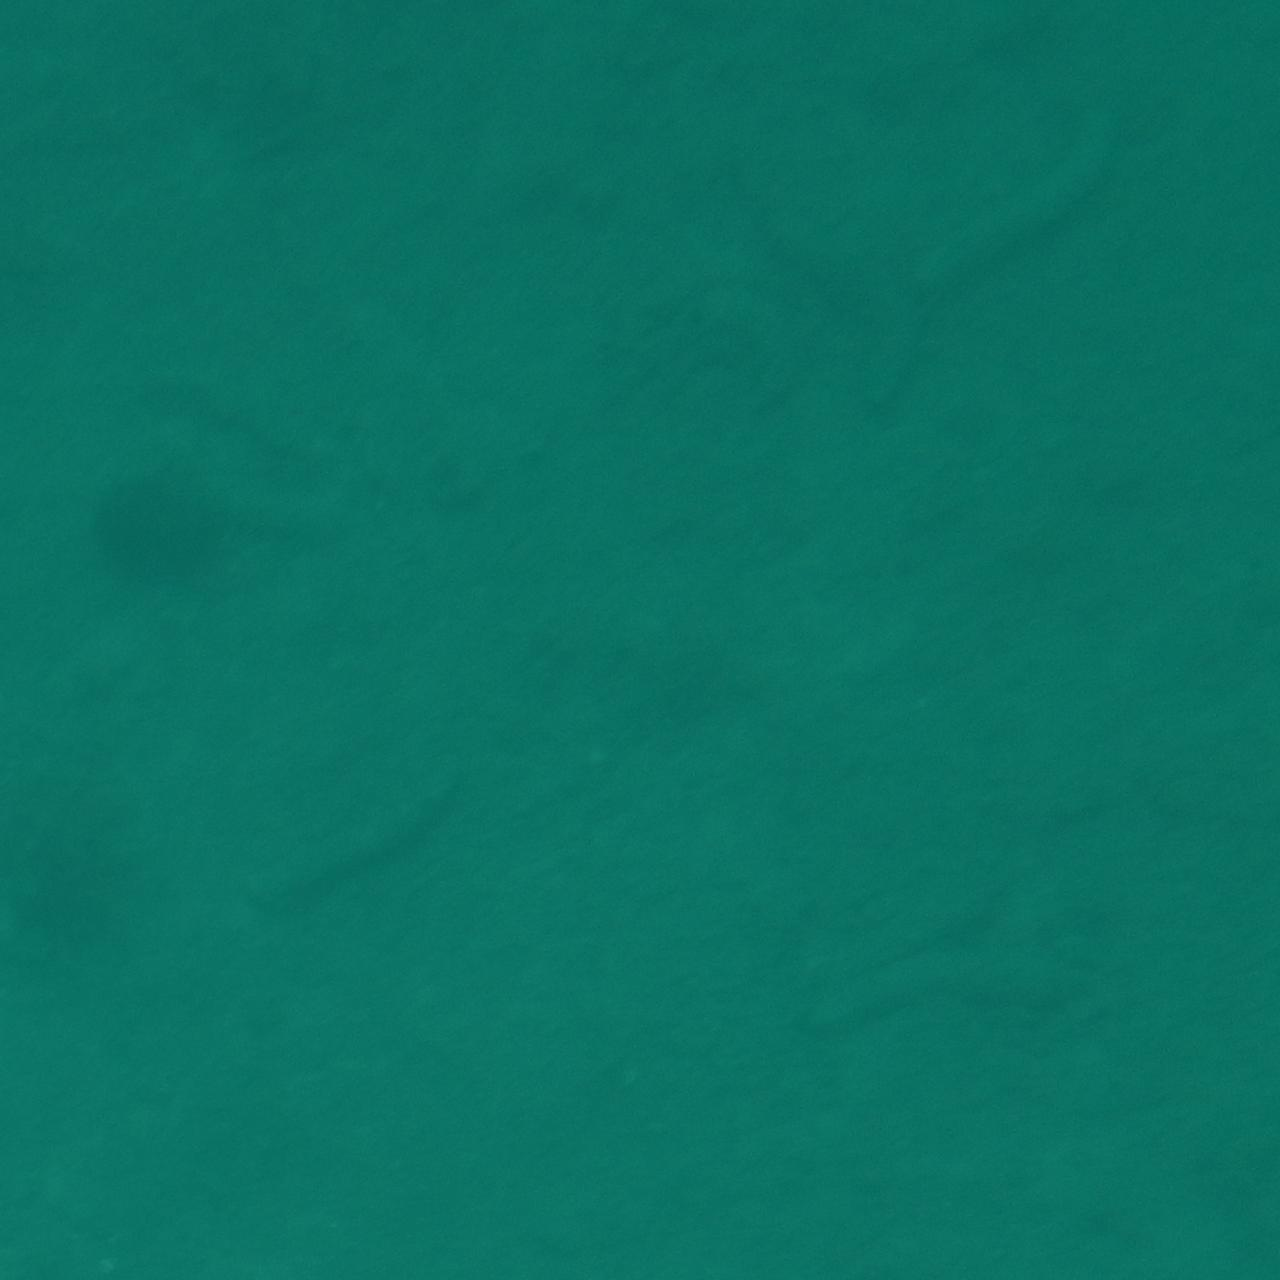Holothuria tubulosa: (865, 72, 1176, 309), (215, 708, 511, 944), (789, 931, 1119, 1094), (135, 350, 384, 566)
